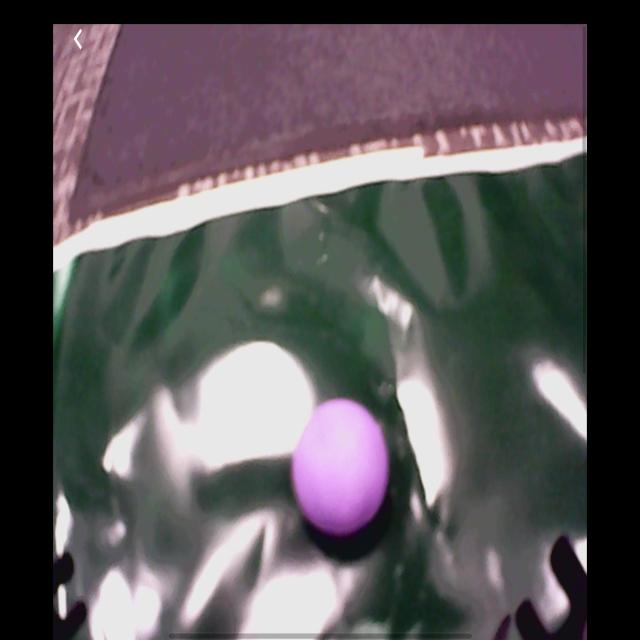ball: (292, 399, 391, 537)
